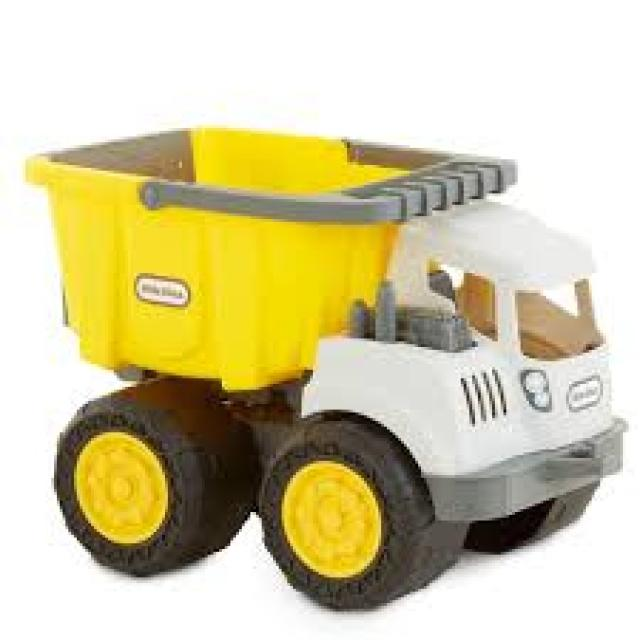dump_truck: (20, 121, 630, 612)
